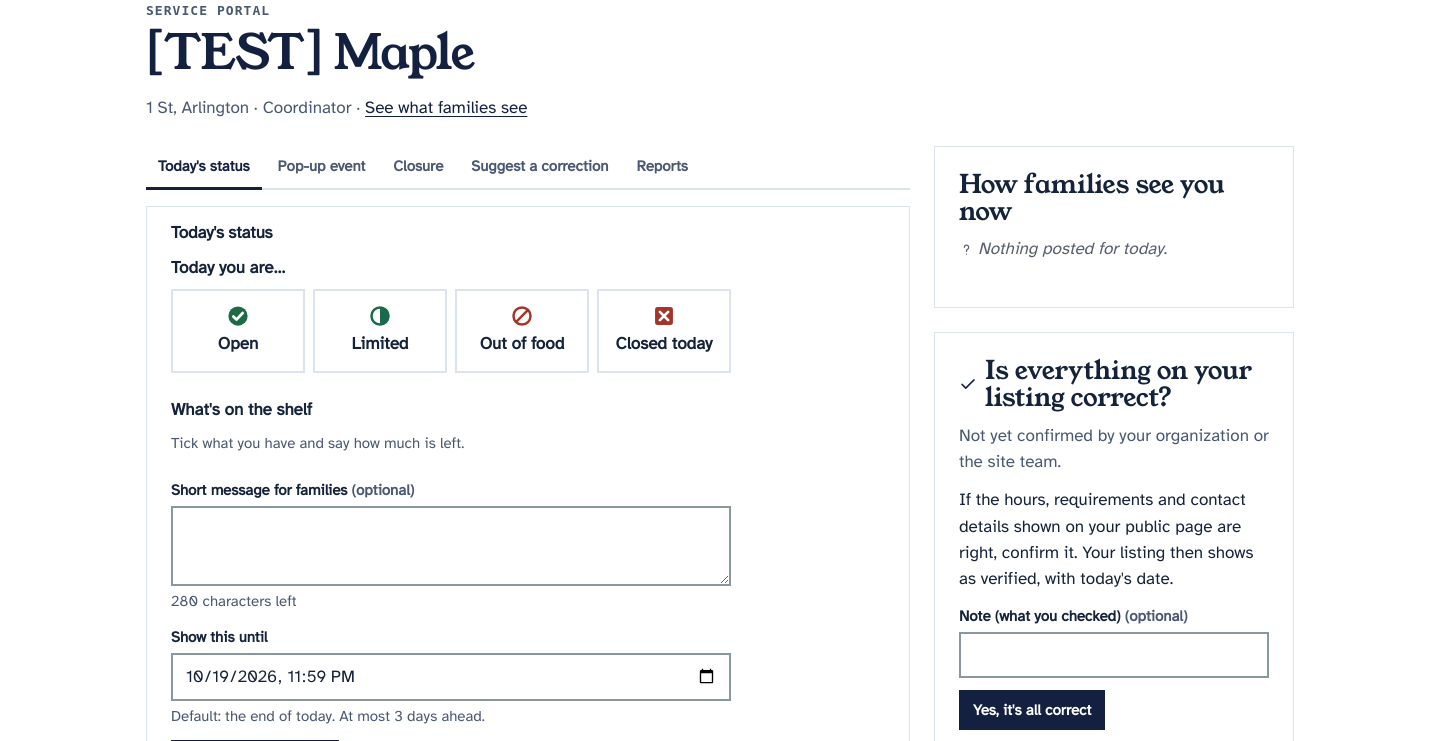
provider portal: dashboard › confirms the listing as correct
The width and height of the screenshot is (1440, 741).
Type "Called the office" into the field labelled "Note (what you checked) (optional)" at (1114, 655), box [959,632,1269,678]
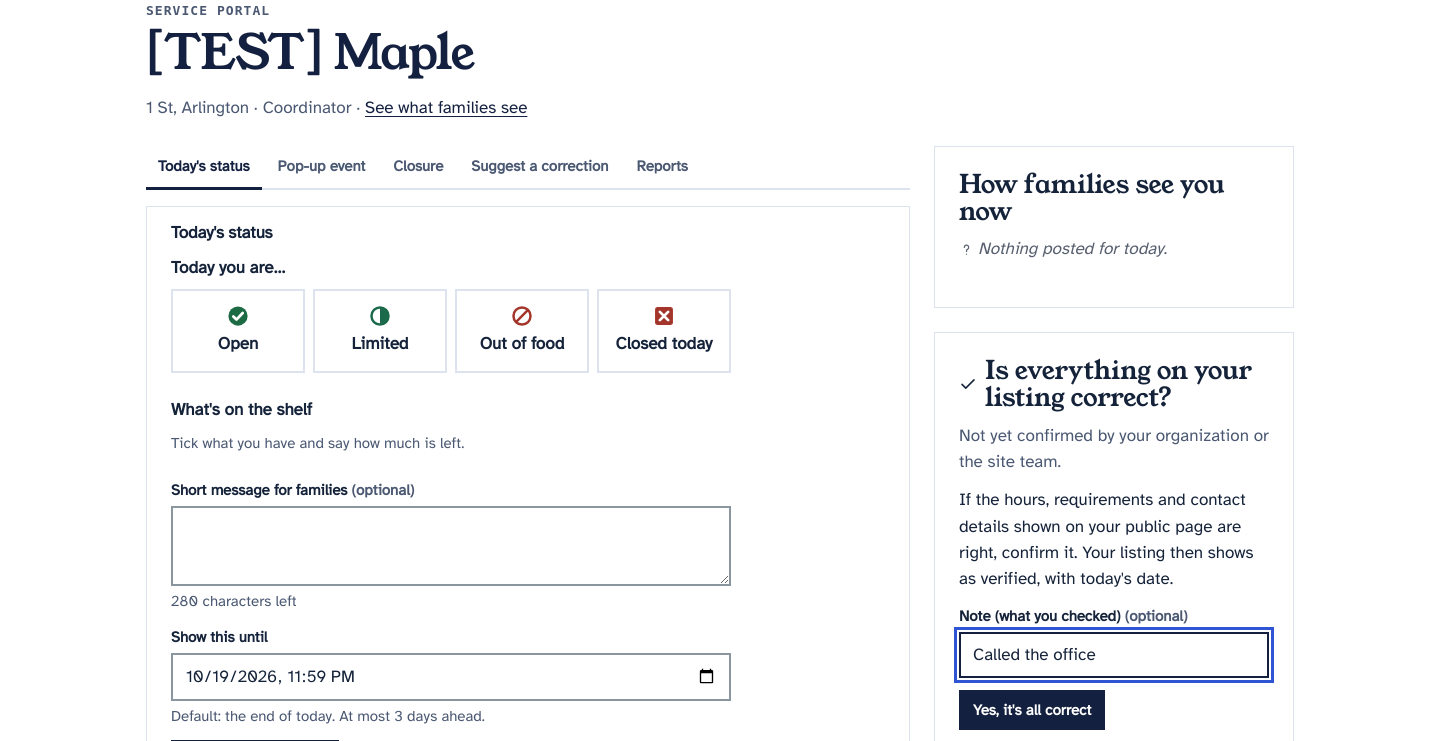
Click the button "Yes, it's all correct" at (1032, 710), box [959,690,1106,730]
(page scrolled)
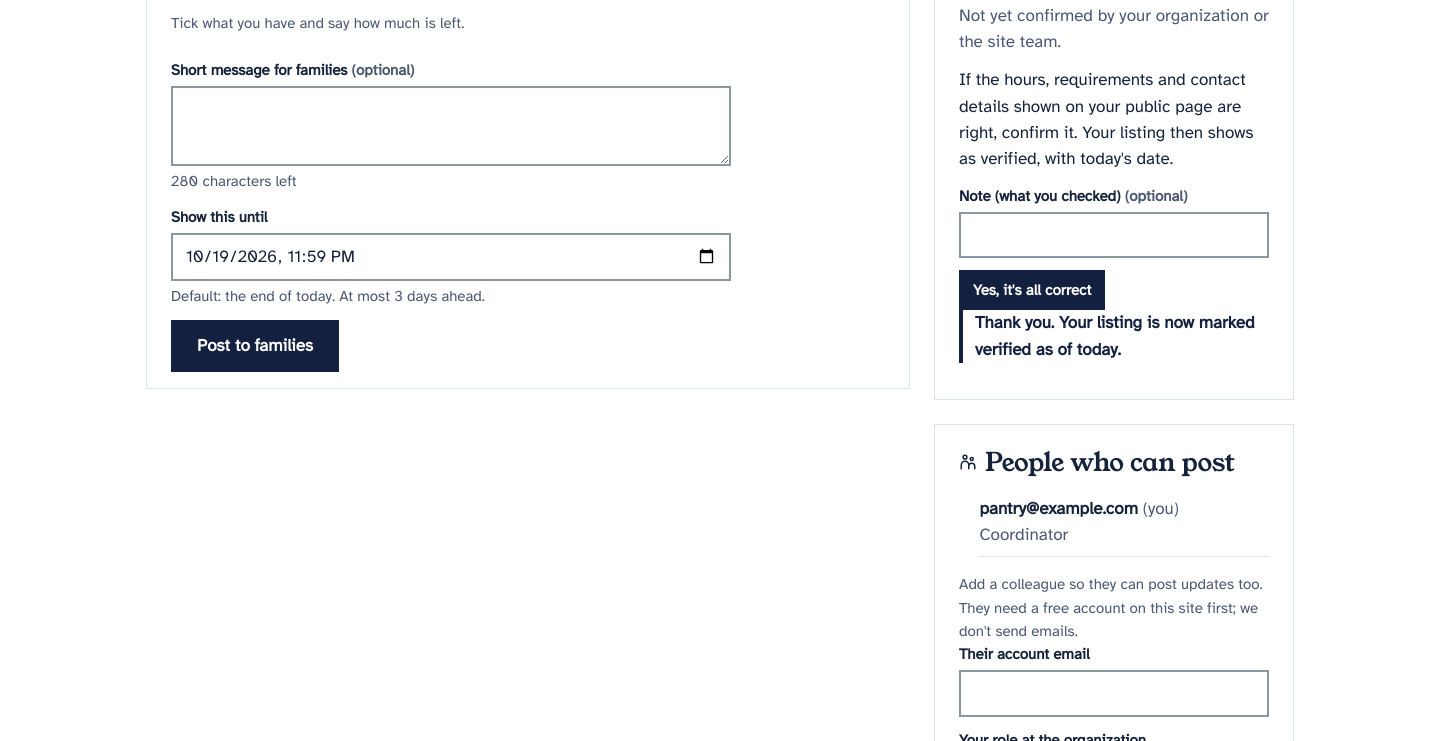
Result: the text "Thank you. Your listing is now marked verified as of today." is shown at [959,310,1269,363]
